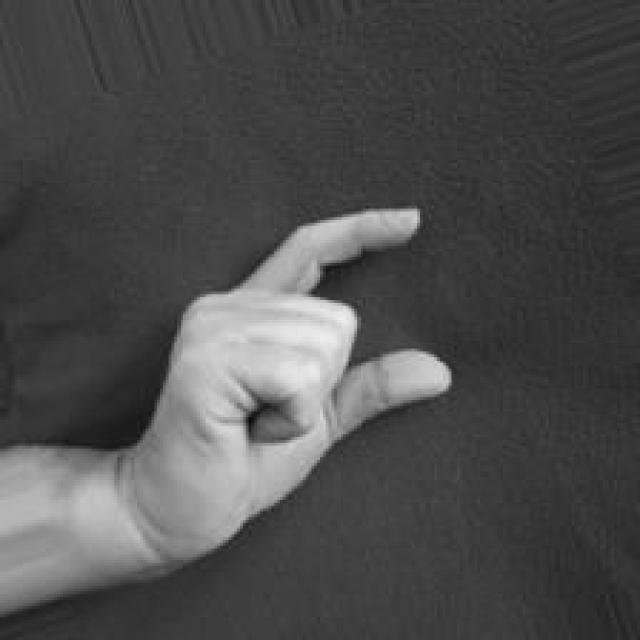C: (132, 205, 455, 580)
